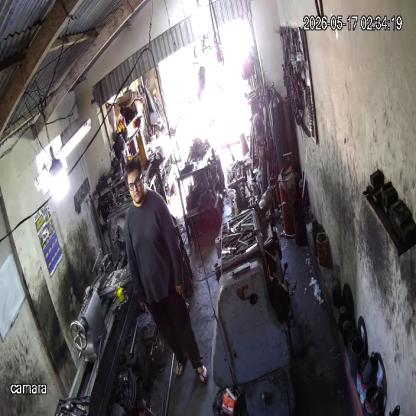lentes: (126, 172, 143, 190)
